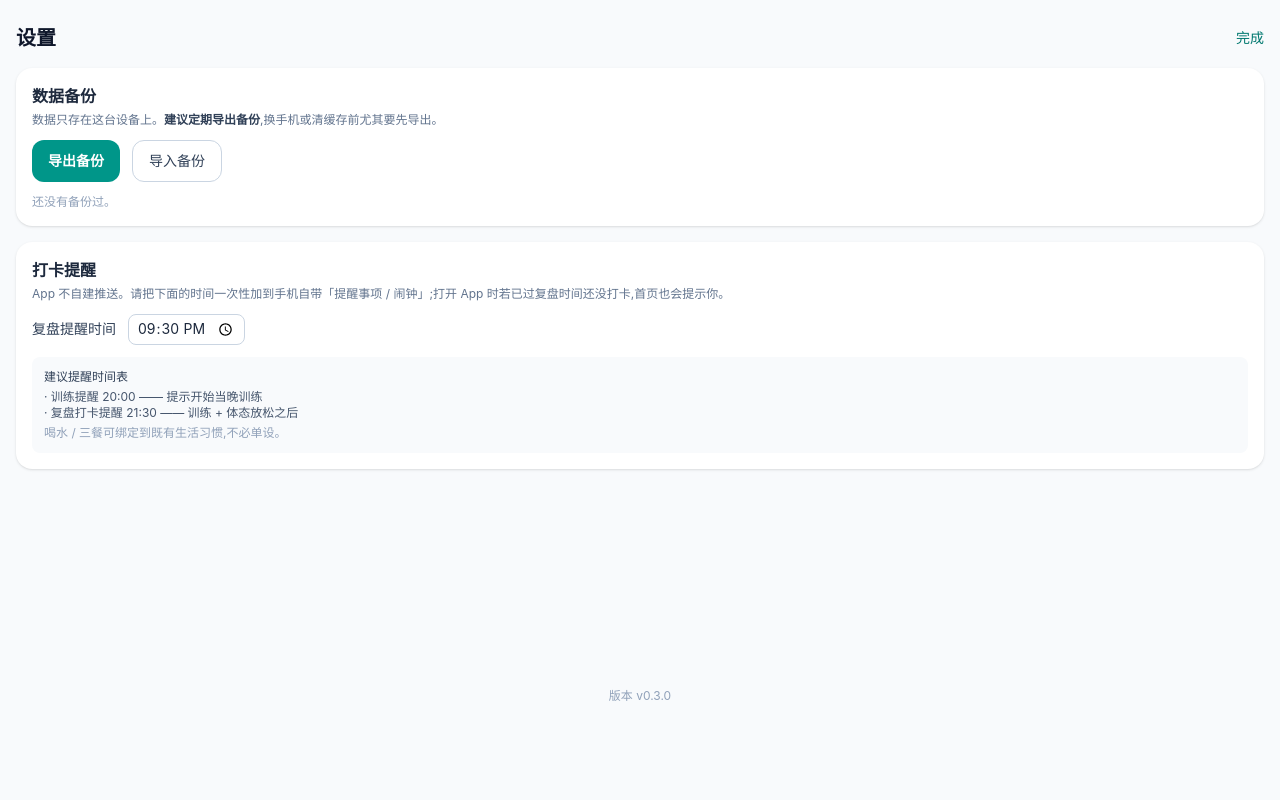
Scenario: SettingsPage 数据备份 › 点击导出后记录 lastBackupAt
Expected: the heading "数据备份" is shown, [32, 86, 96, 106]
Click the button "导出备份" at (76, 161), box [32, 140, 120, 182]
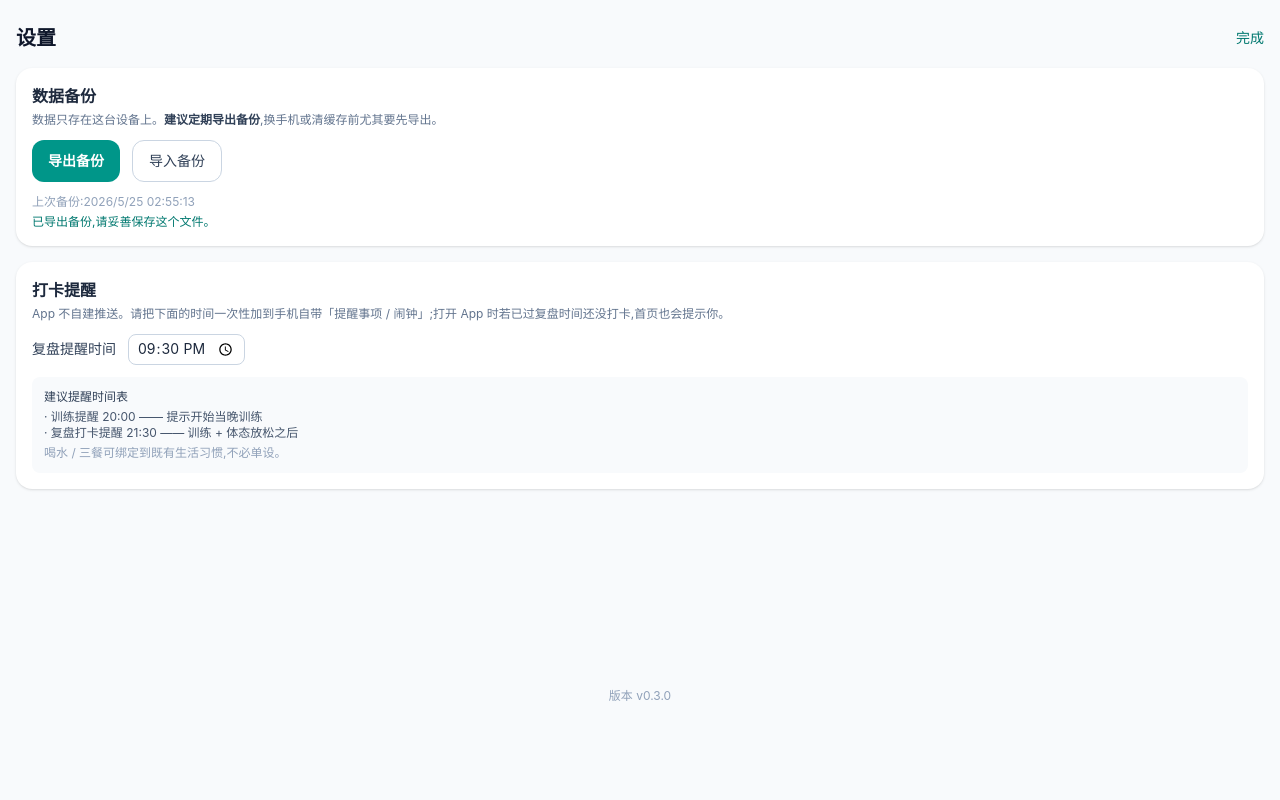
Expected: the text "已导出备份,请妥善保存这个文件。" is shown, [32, 214, 216, 229]
